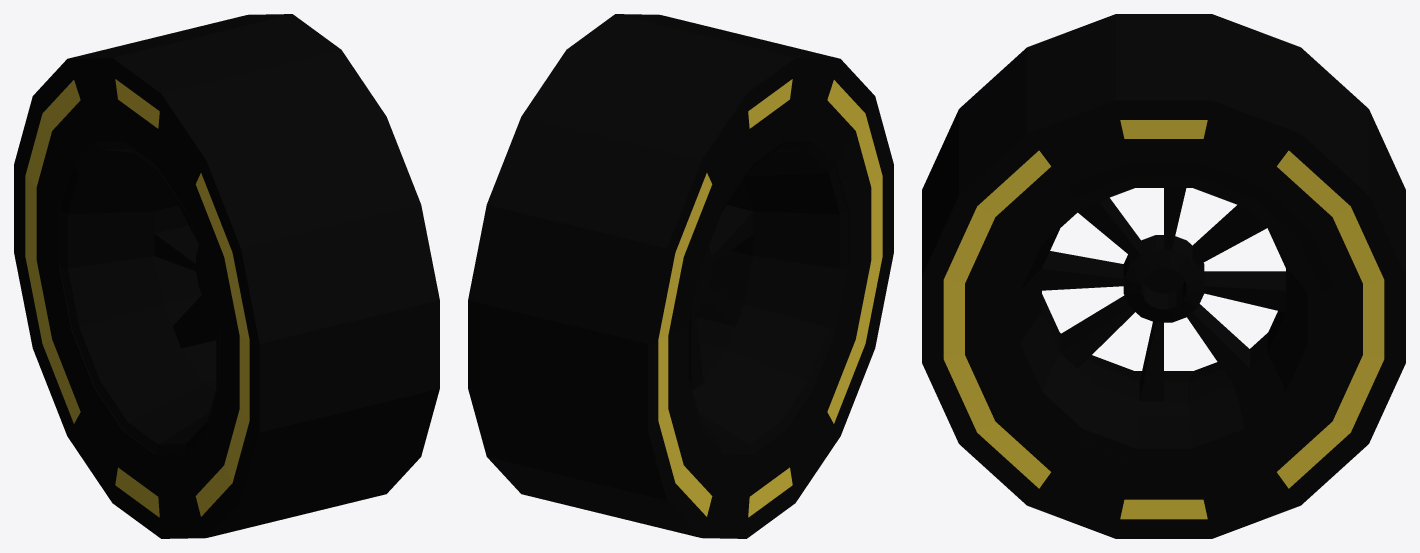
File: front-tyre.glb
The picture shows the model from 3 angles, left to right: view 1: azimuth 30°, elevation 25°; view 2: azimuth 150°, elevation 25°; view 3: azimuth 270°, elevation 25°; orthographic projection.
Visible parts, largest first — view 1: Tyre; view 2: Tyre; view 3: Tyre.
Part boxes in pixels (bbox=[...]): Tyre: bbox=[14, 14, 439, 538]; Tyre: bbox=[468, 14, 893, 538]; Tyre: bbox=[922, 14, 1405, 538].
Size of the model in its own units: 0.305 by 0.72 by 0.72.
